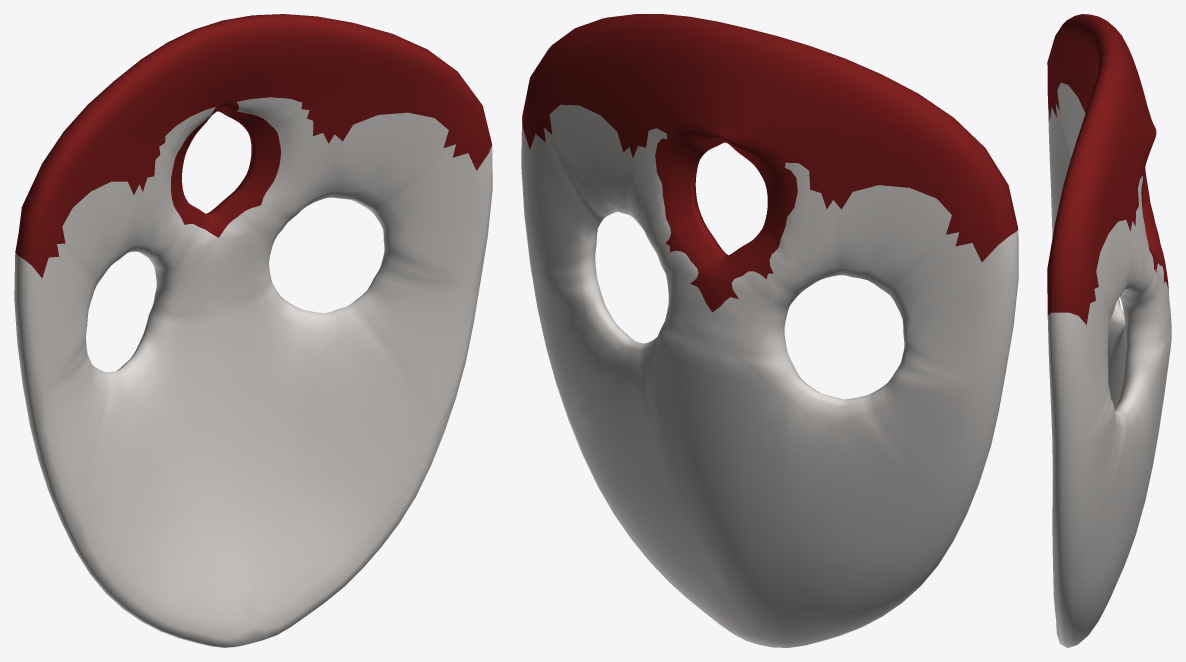
File: PlayerMask2.fbx
The picture shows the model from 3 angles, left to right: view 1: azimuth 30°, elevation 25°; view 2: azimuth 150°, elevation 25°; view 3: azimuth 270°, elevation 25°; orthographic projection. The views are drawn at different scales.
Visible parts, largest first — view 1: Playerhead_2; view 2: Playerhead_2; view 3: Playerhead_2.
Boxes of the visible parts, box(x1,y1,x2,y2) form: Playerhead_2: box(14, 14, 492, 647); Playerhead_2: box(521, 14, 1018, 647); Playerhead_2: box(1047, 14, 1171, 647).
Size of the model in its own units: 18.21 by 22.32 by 4.27.
